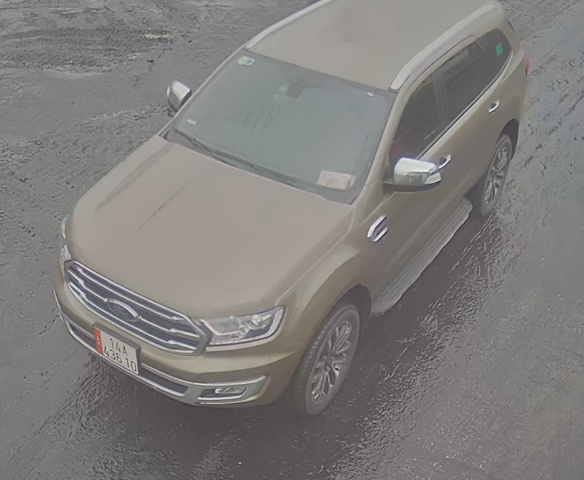vehicle plate: (91, 321, 146, 378)
